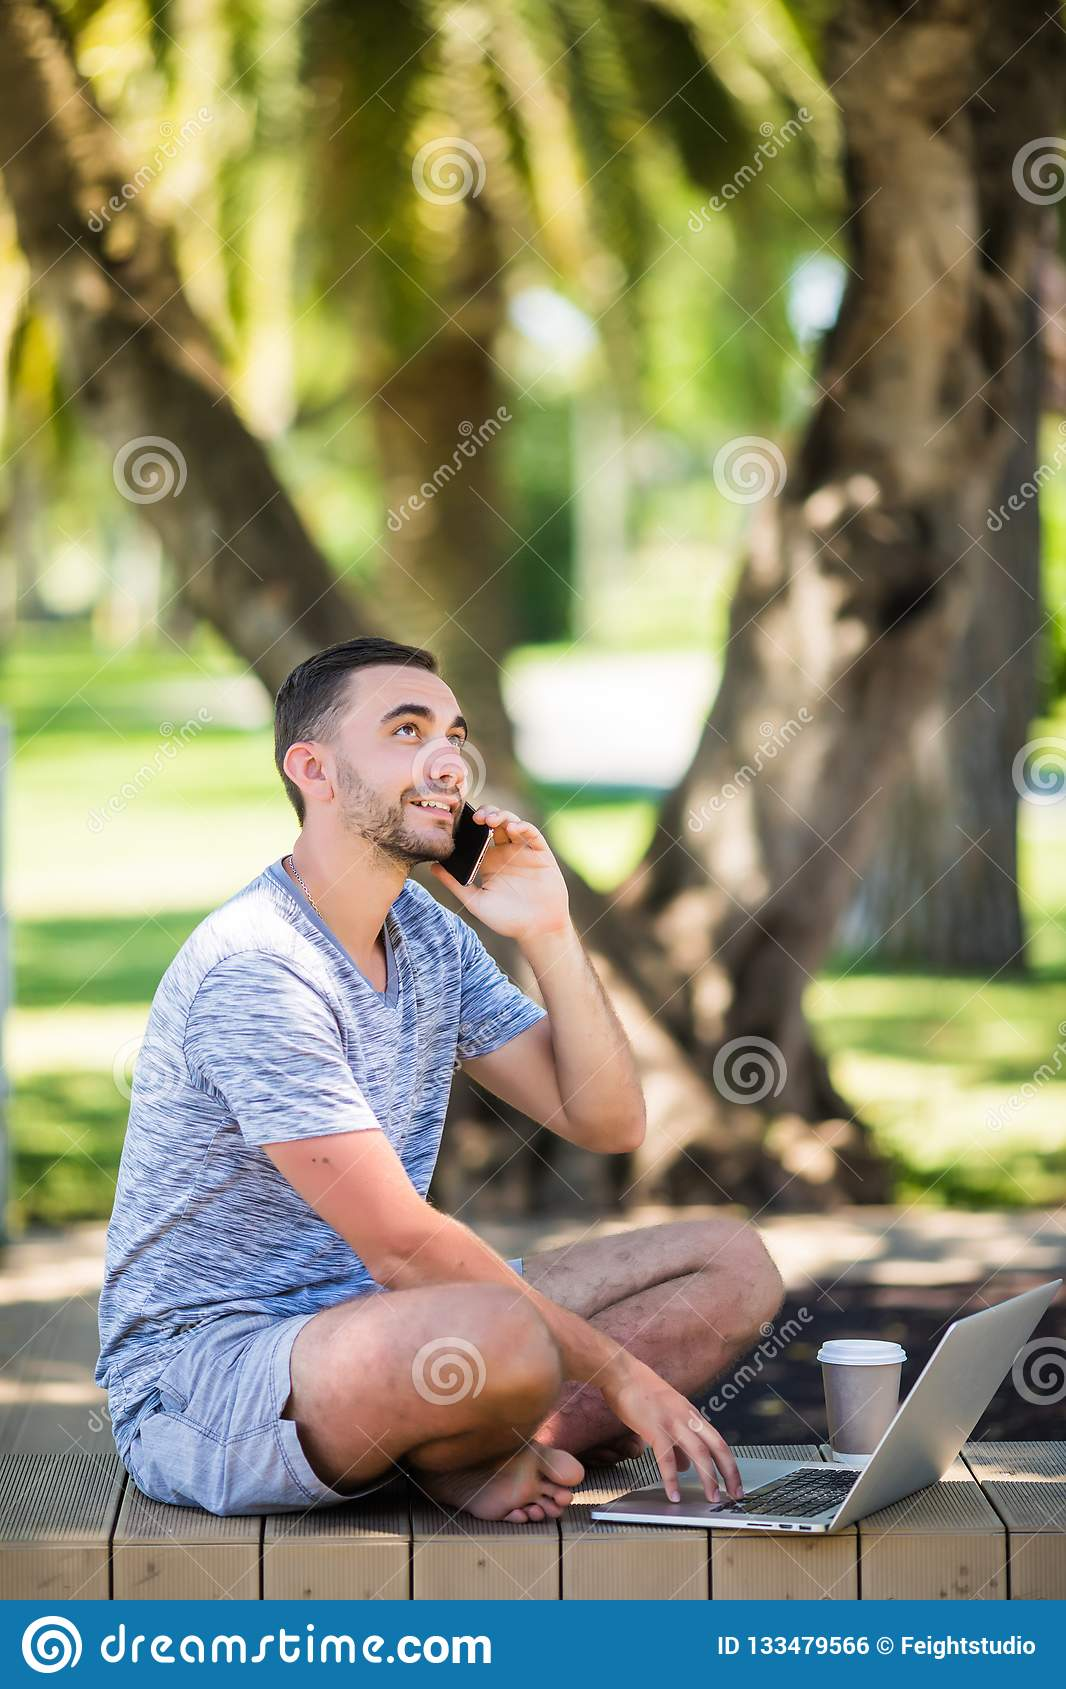phone: (438, 808, 515, 889)
talk: (365, 696, 578, 944)
